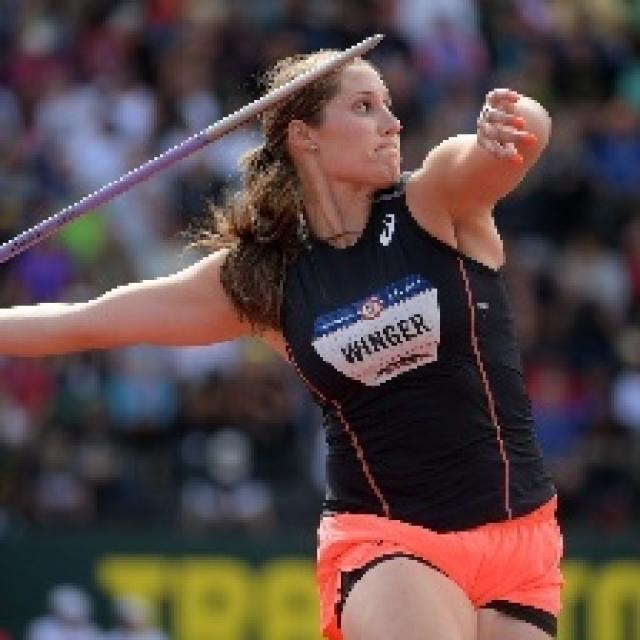javelin: (0, 16, 559, 457)
